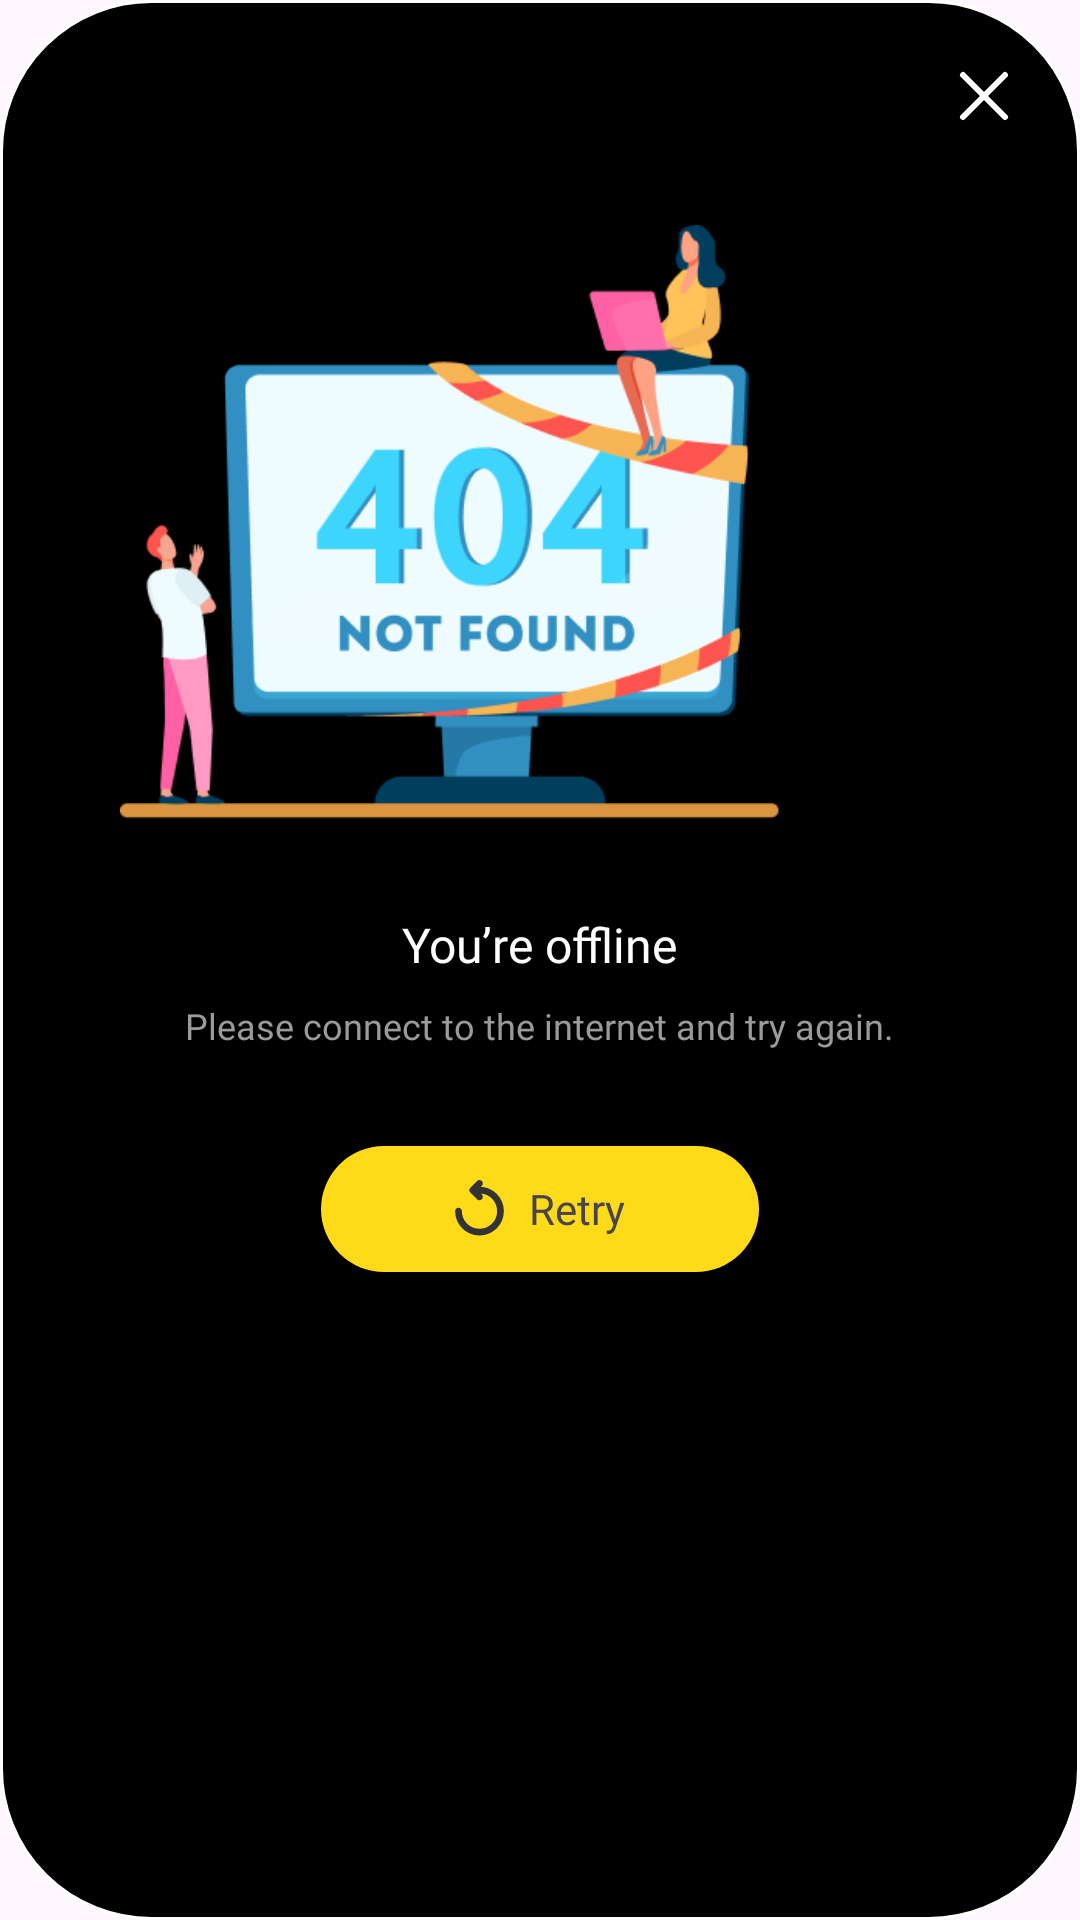

Icons on this 1080×1920 Android screen, each with the point to tap as (x,y):
close: (984,95)
